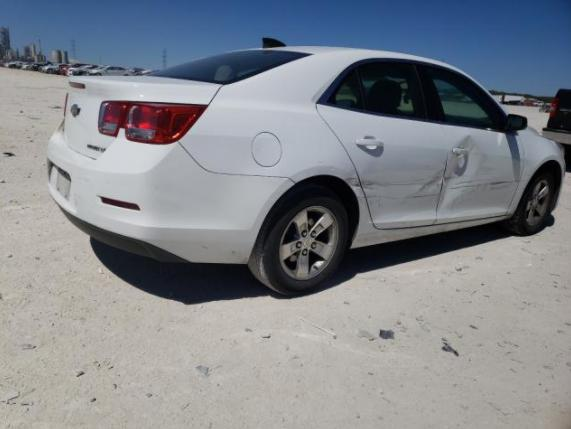Back-bumper: (46, 118, 294, 264)
Back-door: (316, 58, 447, 229)
Back-wheel: (247, 183, 349, 295)
Back-window: (328, 62, 425, 117)
Back-windshield: (144, 50, 315, 86)
Fender: (506, 129, 567, 214)
Front-door: (414, 60, 525, 224)
Front-wheel: (498, 172, 557, 236)
Front-window: (416, 64, 508, 129)
Mirror: (505, 114, 528, 131)
Quarter-panel: (180, 86, 376, 230)
Rocker-panel: (350, 214, 514, 249)
Roof: (244, 46, 455, 67)
Tail-light: (98, 101, 209, 145), (63, 92, 69, 118)
Trunk: (63, 76, 222, 159)
